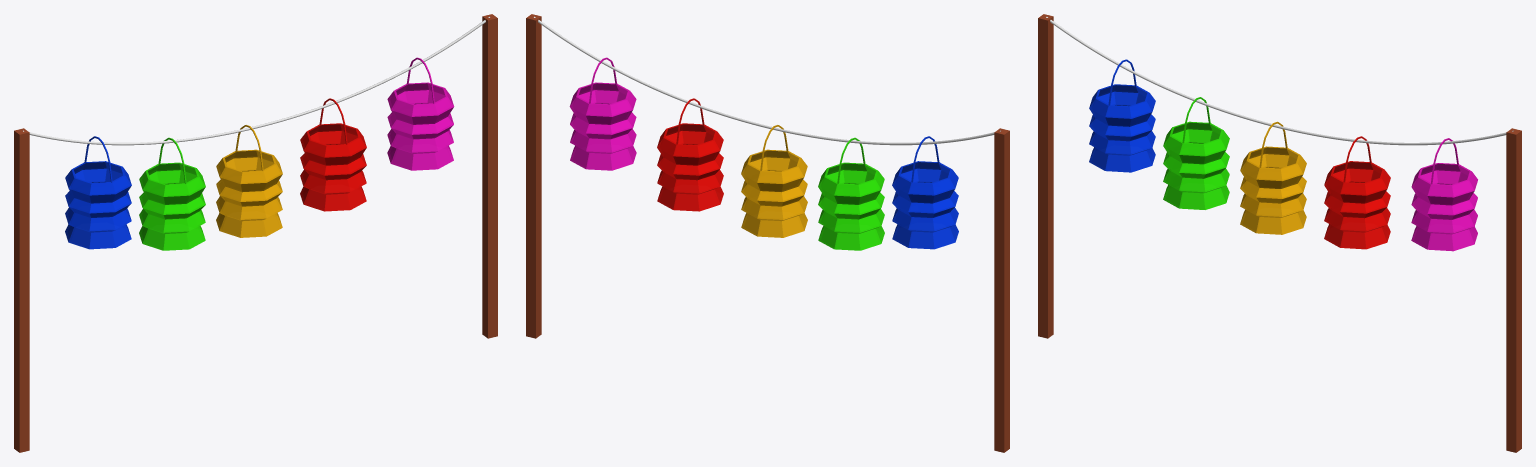
The model's file is ไม้โคมไฟ.fbx.
3 views of the same model, side by side, from view 1: azimuth 30°, elevation 25°; view 2: azimuth 150°, elevation 25°; view 3: azimuth 330°, elevation 25° (orthographic).
Parts seen in each view (by area): view 1: Cylinder.003, Cylinder.002, Cylinder, Cylinder.001, Cylinder.004, Cube.001, Cube, NurbsPath; view 2: Cylinder.003, Cylinder.002, Cylinder, Cylinder.001, Cylinder.004, Cube.001, Cube, NurbsPath; view 3: Cylinder.004, Cylinder.001, Cylinder.002, Cylinder, Cylinder.003, Cube, Cube.001, NurbsPath.
Part boxes in pixels (x1,y1,x2,y2): Cylinder.003: [139, 137, 205, 250]; Cylinder.002: [216, 125, 282, 237]; Cylinder: [387, 57, 454, 170]; Cylinder.001: [300, 98, 366, 211]; Cylinder.004: [65, 136, 131, 249]; Cube.001: [14, 128, 29, 452]; Cube: [482, 14, 497, 338]; NurbsPath: [22, 16, 489, 145]; Cylinder.003: [818, 137, 884, 250]; Cylinder.002: [741, 125, 807, 237]; Cylinder: [569, 57, 636, 170]; Cylinder.001: [657, 98, 723, 211]; Cylinder.004: [892, 136, 958, 249]; Cube.001: [994, 128, 1009, 452]; Cube: [526, 14, 541, 338]; NurbsPath: [534, 16, 1001, 145]; Cylinder.004: [1089, 59, 1155, 172]; Cylinder.001: [1324, 136, 1390, 249]; Cylinder.002: [1240, 121, 1306, 234]; Cylinder: [1411, 138, 1477, 251]; Cylinder.003: [1163, 97, 1229, 209]; Cube: [1506, 128, 1521, 452]; Cube.001: [1038, 14, 1053, 338]; NurbsPath: [1046, 17, 1513, 145].
Bounding box in the file's own units: 1596 × 1017 × 200.
